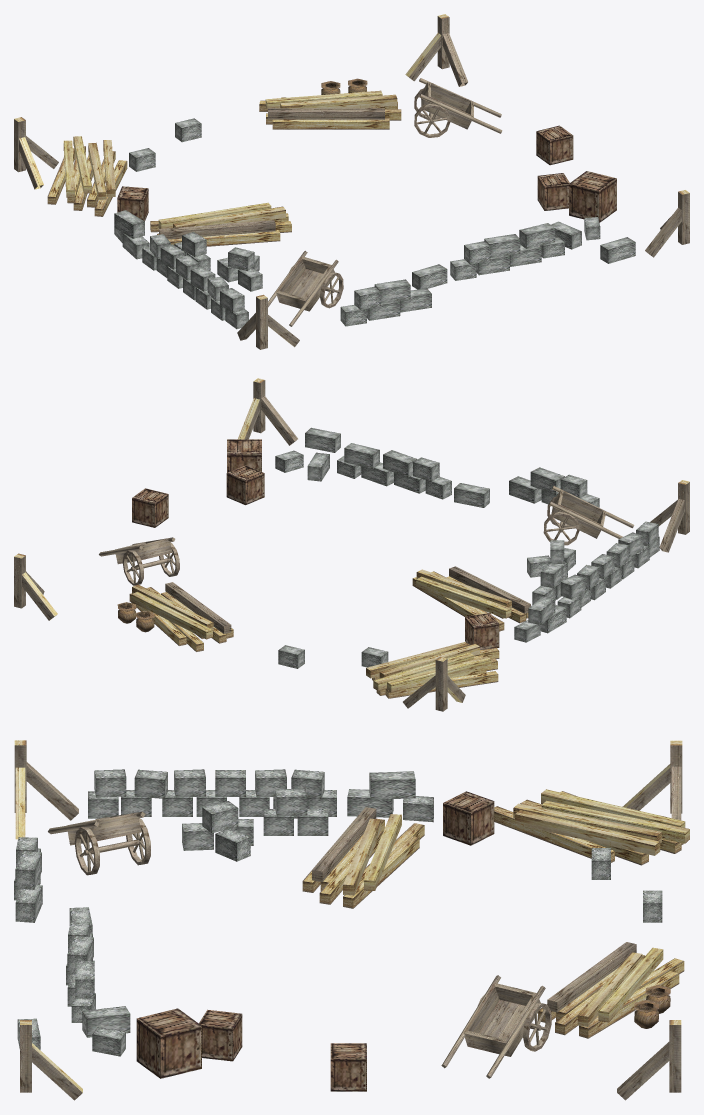
The model's file is found_5x5_a.dae.
3 renders of one model, top to bottom at view 1: azimuth 30°, elevation 25°; view 2: azimuth 150°, elevation 25°; view 3: azimuth 270°, elevation 25°, orthographic. The views are drawn at different scales.
Visible parts, largest first — view 1: found_5x5_a; view 2: found_5x5_a; view 3: found_5x5_a.
Boxes of the visible parts, <box> form: found_5x5_a: <box>14,14,689,349</box>; found_5x5_a: <box>14,378,689,711</box>; found_5x5_a: <box>14,740,689,1100</box>.
Size of the model in its own units: 25.36 by 3.08 by 24.85.
